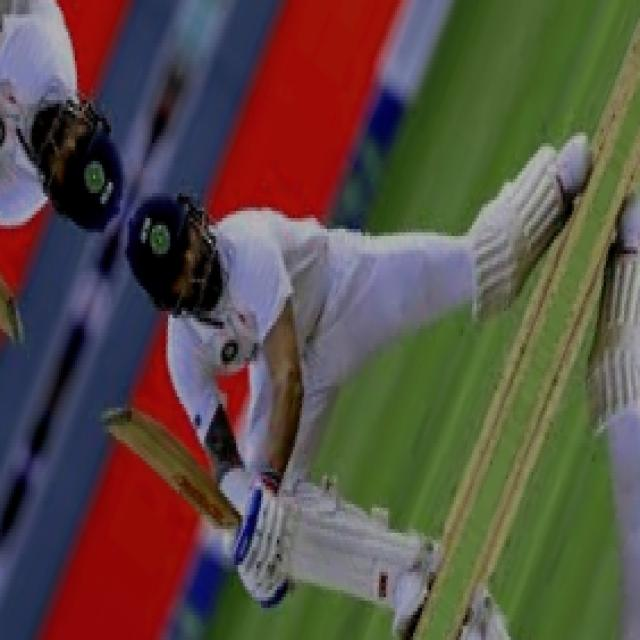toe: (95, 397, 144, 446)
